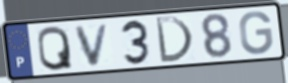3: (120, 18, 151, 67)
8: (199, 12, 234, 60)
D: (153, 15, 196, 64)
G: (238, 9, 275, 56)
Q: (36, 24, 75, 73)
V: (73, 22, 112, 68)
